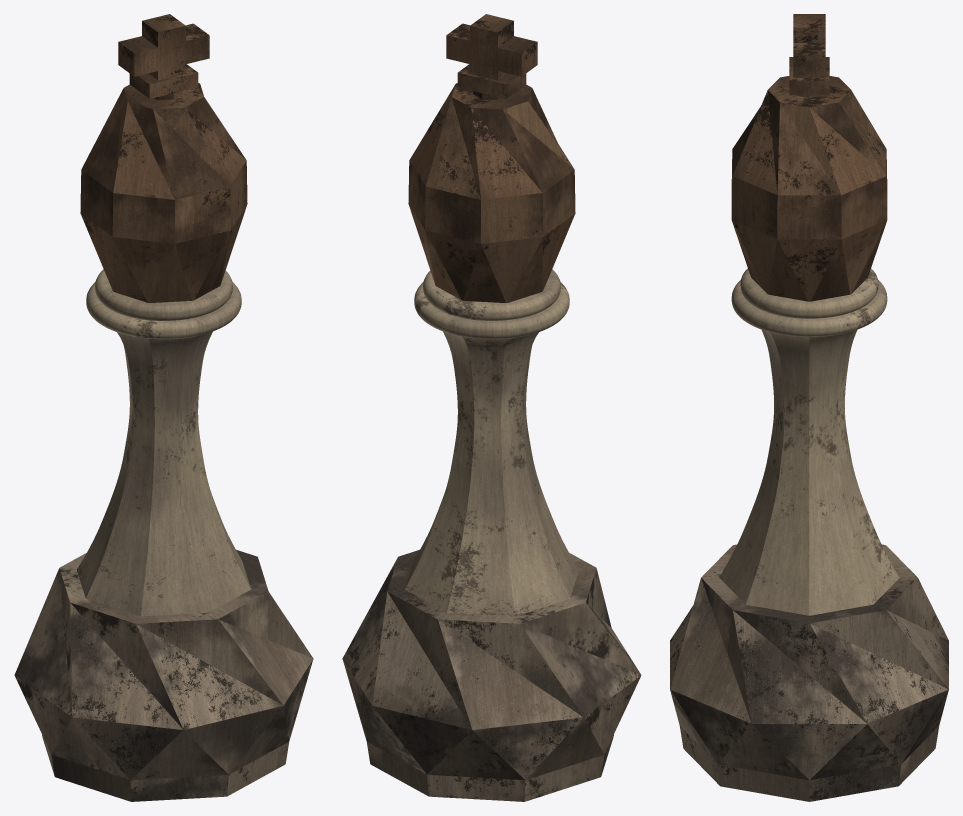
File: king-black.glb
3 renders of one model, left to right at view 1: azimuth 30°, elevation 25°; view 2: azimuth 150°, elevation 25°; view 3: azimuth 270°, elevation 25°, orthographic.
Visible parts, largest first — view 1: Lithoxyl_King_Onyx; view 2: Lithoxyl_King_Onyx; view 3: Lithoxyl_King_Onyx.
Boxes of the visible parts, x1,y1,x2,y2 form: Lithoxyl_King_Onyx: [14, 14, 313, 801]; Lithoxyl_King_Onyx: [342, 14, 641, 801]; Lithoxyl_King_Onyx: [670, 14, 948, 801].
Bounding box in the file's own units: 0.5731 × 1.65 × 0.5731.
3 materials, 3 textured.
